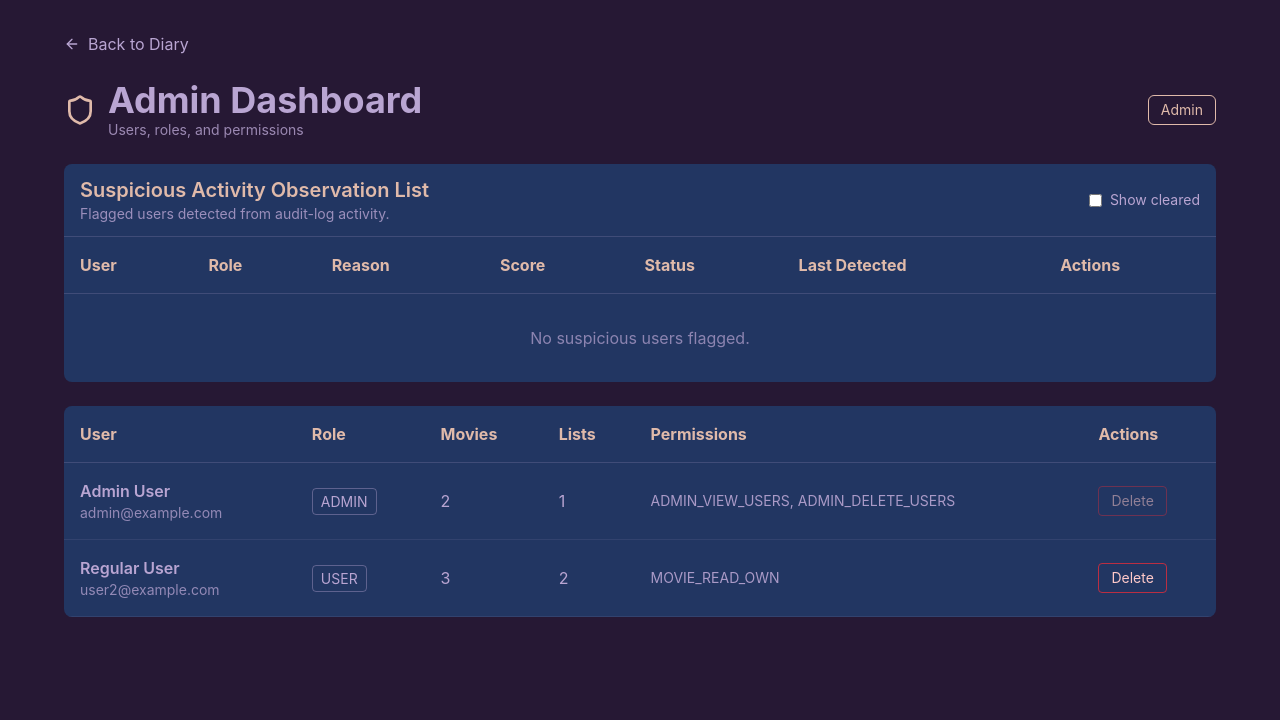
AdminDashboard › deletes another user and keeps current admin protected from self-delete
Expected: the text "Regular User" is shown, [80, 558, 180, 578]
Expected: the button "Delete" in the row of "Admin User" is disabled, [1098, 486, 1167, 516]
Step 1. Click the button "Delete" in the row of "Regular User" → (1133,578), box [1098, 563, 1167, 593]
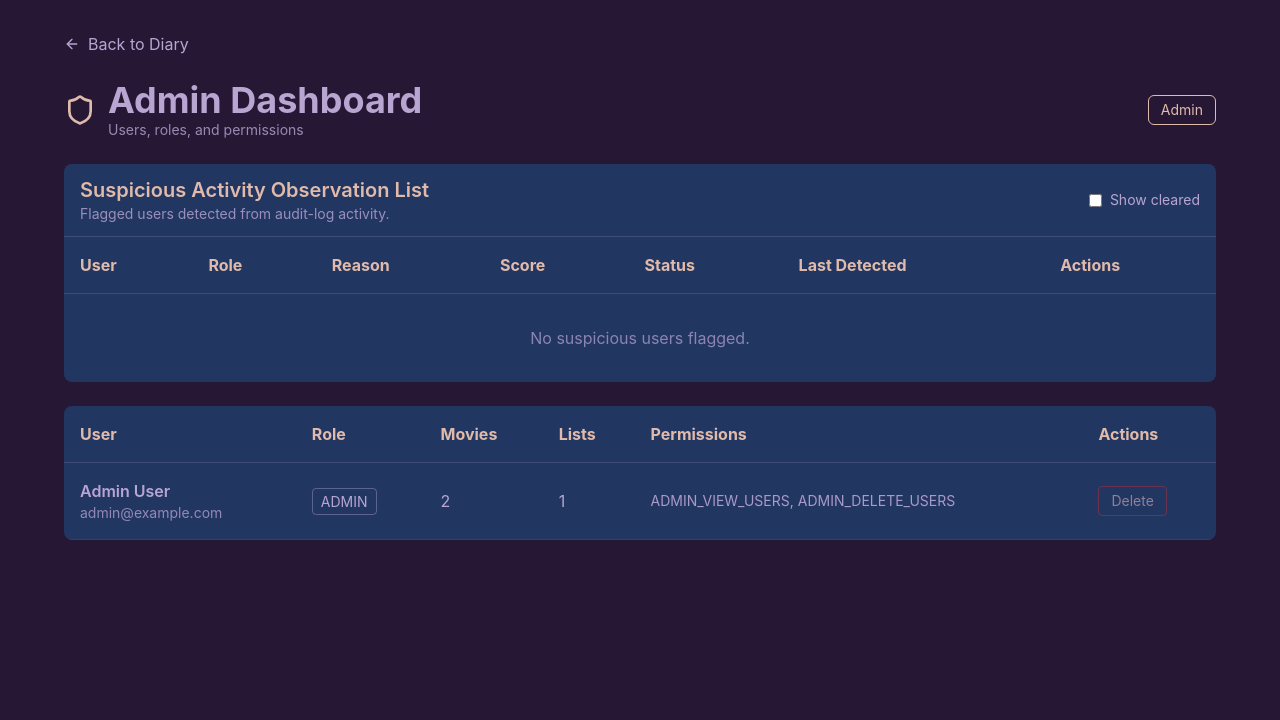
Result: the text "Regular User" is gone
